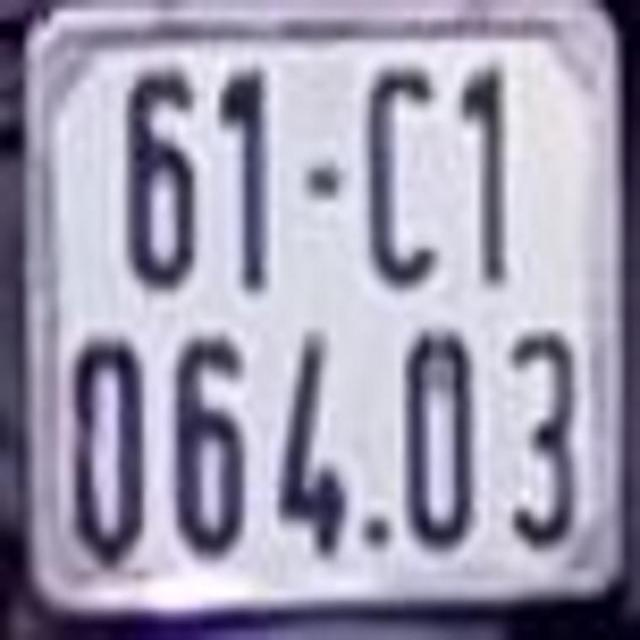0: (398, 320, 480, 552), (71, 331, 147, 564)
1: (213, 64, 282, 294), (452, 56, 519, 290)
3: (503, 314, 576, 557)
4: (274, 328, 345, 565)
6: (170, 330, 249, 561), (122, 69, 201, 290)
C: (362, 66, 444, 288)
